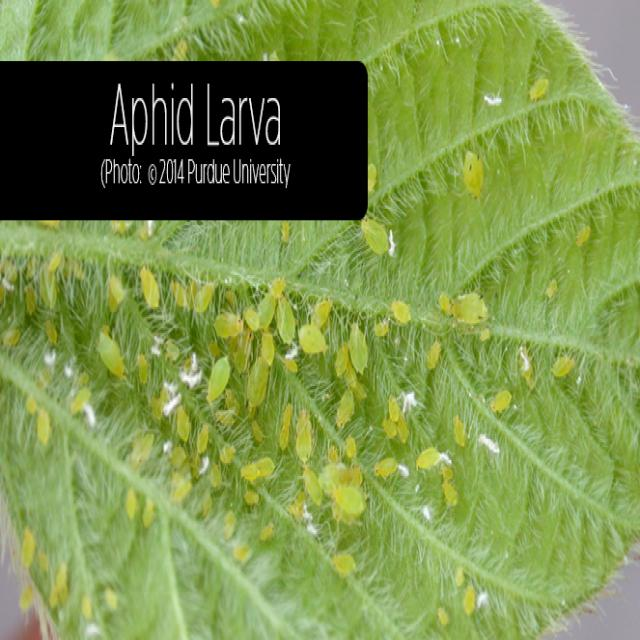Aphid-Grouped-: (78, 233, 450, 555)
